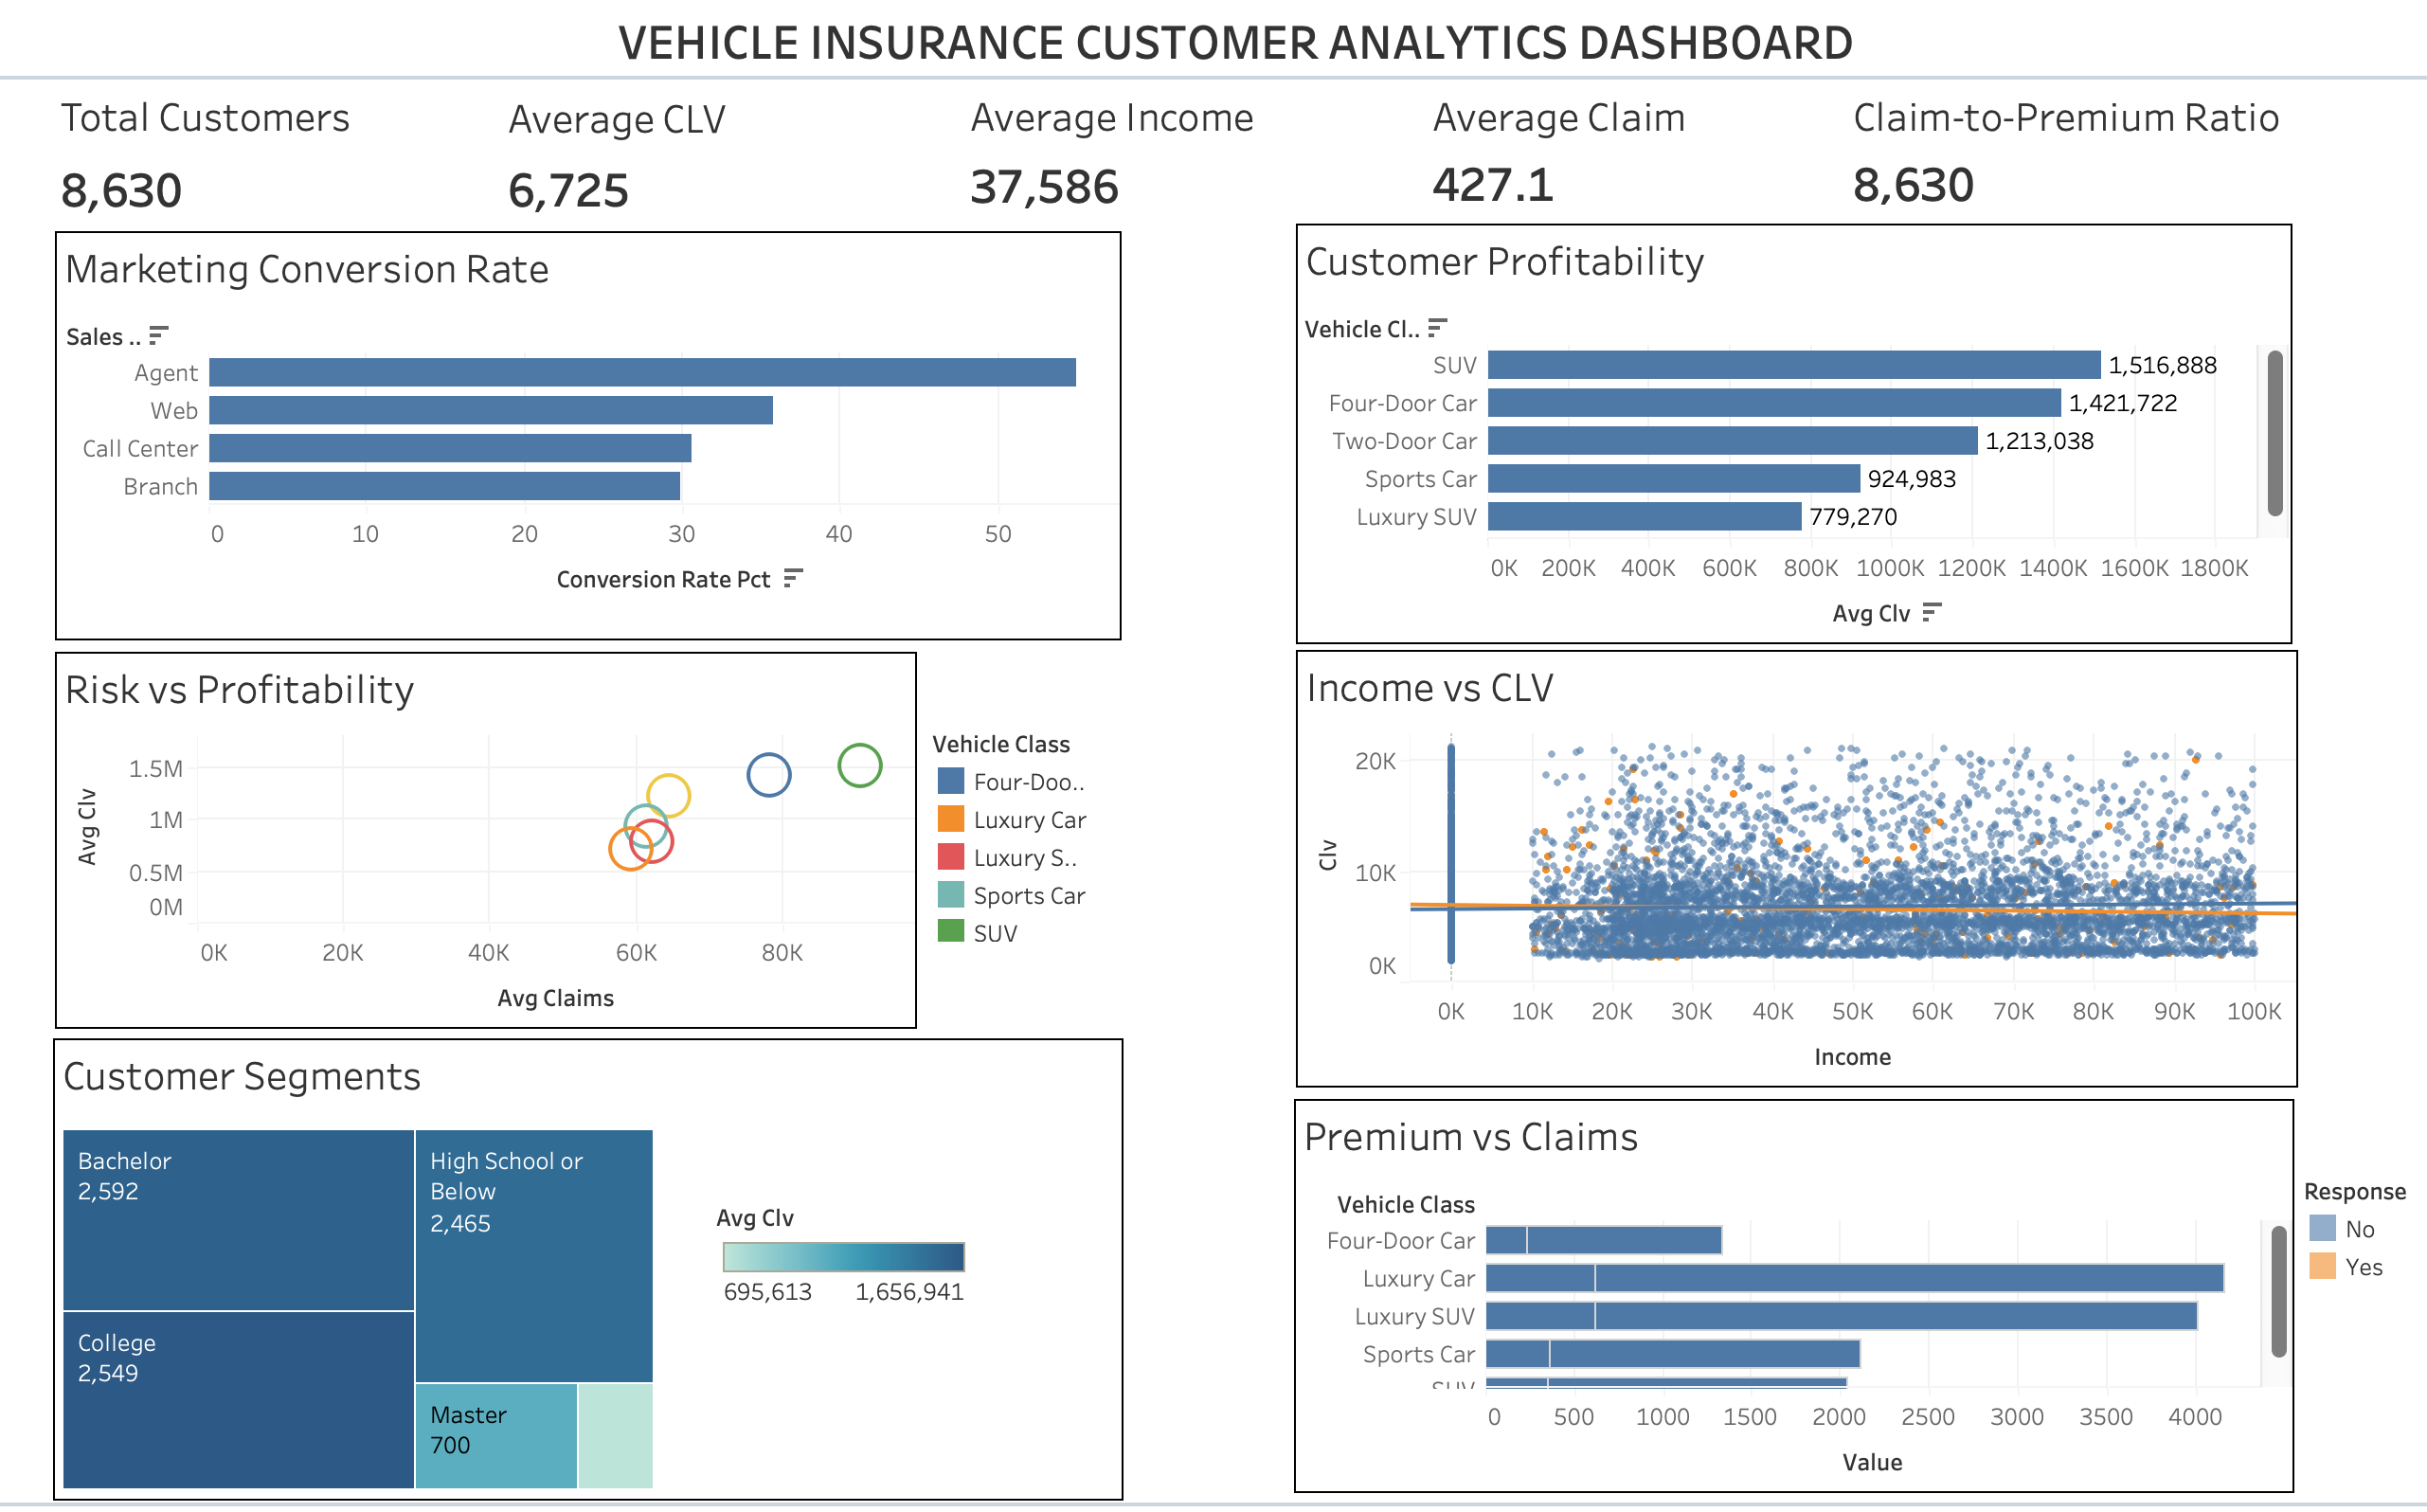

This screenshot's page, from the dashboard's own definition file:
{"tool":"tableau","page":{"name":" VEHICLE INSURANCE CUSTOMER ANALYTICS DASHBOARD","canvas":[1000,1000],"units":"permille","ordinal":0},"visuals":[{"type":"title","box":[6.5,9.9,987,50.7]},{"type":"worksheet","title":"Total Customers","mark":"Automatic","box":[60.1,61.9,162,86.6]},{"type":"worksheet","title":"Average Income","mark":"Automatic","box":[399.6,61.9,150.6,82.9]},{"type":"worksheet","title":"Average Claim","mark":"Automatic","box":[572.1,61.9,159.1,80.5]},{"type":"worksheet","title":"Claim-to-Premium Ratio","mark":"Automatic","box":[729.1,61.9,246.1,80.5]},{"type":"worksheet","title":"Average CLV","mark":"Automatic","box":[227,63.1,140.7,84.2]},{"type":"worksheet","title":"Customer Profitability","mark":"Automatic","rows":["vehicle_class"],"cols":["avg_clv"],"box":[524,154.7,372,274.8]},{"type":"worksheet","title":"Marketing Conversion Rate","mark":"Automatic","rows":["sales_channel"],"cols":["conversion_rate_pct"],"box":[60.8,159.7,398.2,267.3]},{"type":"worksheet","title":"Income vs CLV","mark":"Automatic","rows":["clv"],"cols":["income"],"box":[524,433.2,374.1,285.9]},{"type":"worksheet","title":"Risk vs Profitability","mark":"Automatic","rows":["avg_clv"],"cols":["avg_claims"],"box":[60.8,434.4,321.8,246.3]},{"type":"legend","title":"Risk vs Profitability","param":"[federated.1tr94lj1a1h53010fgiyy1rn9uxn].[none:vehicle_class:nk]","box":[388.3,483.9,72.8,139.8]},{"type":"worksheet","title":"Customer Segments","mark":"Automatic","box":[60.1,686.9,399.6,302]},{"type":"worksheet","title":"Premium vs Claims","mark":"Automatic","rows":["vehicle_class"],"box":[523.3,726.5,373.4,257.4]},{"type":"legend","title":"Income vs CLV","param":"[federated.1prwr5t16bwwzz1dbfo1w02xsppq].[none:response:nk]","box":[900.3,776,63.6,76.7]},{"type":"legend","title":"Customer Segments","param":"[federated.1tr94lj1a1h53010fgiyy1rn9uxn].[sum:avg_clv:qk]","box":[307.6,793.3,96.2,95.3]}]}

Visuals, with their boxes on the dashboard's canvas, which has no fixed pixel size, in thousandths of its width and height (x1, y1, x2, y2). These are canvas units, not pixel positions in the 2427x1512 screenshot, which may show the page scaled, cropped or inside an application window:
title: {"x1": 6, "y1": 10, "x2": 994, "y2": 61}
"Total Customers" worksheet: {"x1": 60, "y1": 62, "x2": 222, "y2": 148}
"Average Income" worksheet: {"x1": 400, "y1": 62, "x2": 550, "y2": 145}
"Average Claim" worksheet: {"x1": 572, "y1": 62, "x2": 731, "y2": 142}
"Claim-to-Premium Ratio" worksheet: {"x1": 729, "y1": 62, "x2": 975, "y2": 142}
"Average CLV" worksheet: {"x1": 227, "y1": 63, "x2": 368, "y2": 147}
"Customer Profitability" worksheet: {"x1": 524, "y1": 155, "x2": 896, "y2": 430}
"Marketing Conversion Rate" worksheet: {"x1": 61, "y1": 160, "x2": 459, "y2": 427}
"Income vs CLV" worksheet: {"x1": 524, "y1": 433, "x2": 898, "y2": 719}
"Risk vs Profitability" worksheet: {"x1": 61, "y1": 434, "x2": 383, "y2": 681}
"Risk vs Profitability" legend: {"x1": 388, "y1": 484, "x2": 461, "y2": 624}
"Customer Segments" worksheet: {"x1": 60, "y1": 687, "x2": 460, "y2": 989}
"Premium vs Claims" worksheet: {"x1": 523, "y1": 726, "x2": 897, "y2": 984}
"Income vs CLV" legend: {"x1": 900, "y1": 776, "x2": 964, "y2": 853}
"Customer Segments" legend: {"x1": 308, "y1": 793, "x2": 404, "y2": 889}
